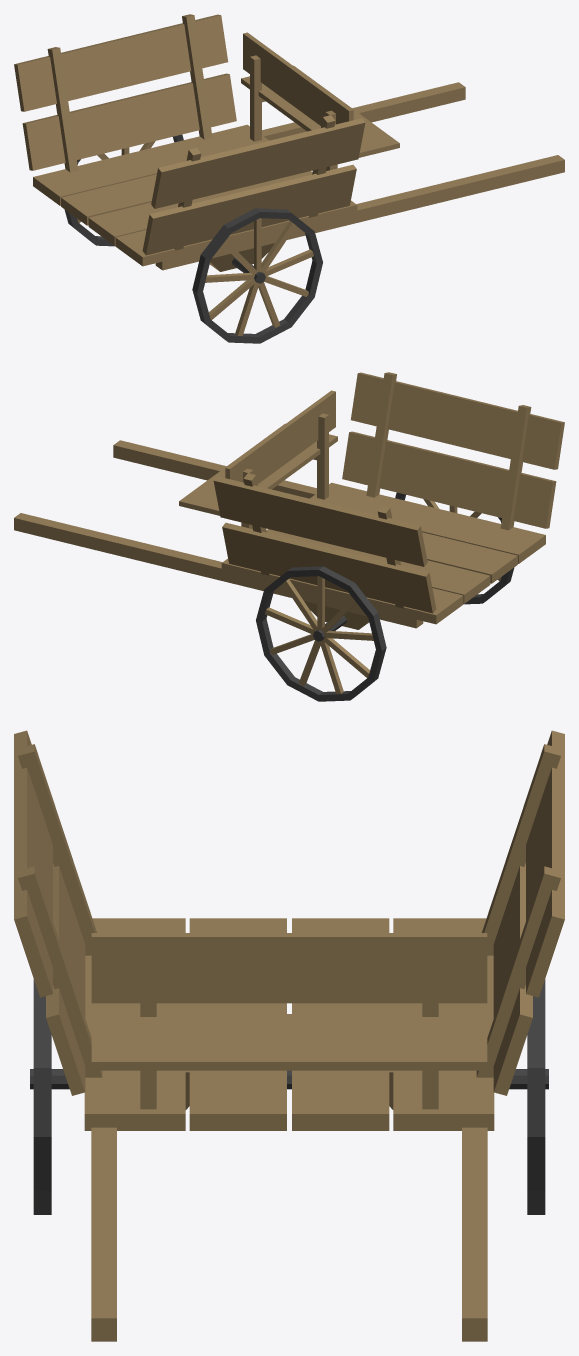
File: Small Cart destruction.fbx
3 views of the same model, one above another, from view 1: azimuth 30°, elevation 25°; view 2: azimuth 150°, elevation 25°; view 3: azimuth 270°, elevation 25° (orthographic). The views are drawn at different scales.
Parts seen in each view (by area): view 1: Cube.275, Cube.276, Cube.282, Cube.274, Cube.283, Cube.270, Cylinder.065, Cube.286, Cube.279, Cube.273, Cube.285, Cube.271 (+6 smaller); view 2: Cube.282, Cube.274, Cube.275, Cube.276, Cube.283, Cube.273, Cylinder.067, Cube.285, Cube.280, Cube.270, Cube.286, Cube.272 (+6 smaller); view 3: Cube.283, Cube.272, Cube.271, Cube.273, Cube.270, Cube.282, Cube.275, Cube.286, Cube.285, Cube.276, Cube.274, Cylinder.067 (+6 smaller).
Boxes of the visible parts, box(x1,y1,x2,y2) form: Cube.275: box(14, 14, 228, 111); Cube.276: box(22, 73, 236, 170); Cube.282: box(151, 118, 365, 208); Cube.274: box(142, 164, 356, 255); Cube.283: box(241, 32, 399, 170); Cube.270: box(33, 124, 268, 205); Cylinder.065: box(192, 208, 322, 343); Cube.286: box(357, 155, 564, 221); Cube.279: box(205, 218, 313, 335); Cube.273: box(115, 200, 357, 266); Cube.285: box(262, 82, 465, 140); Cube.271: box(61, 174, 156, 225); Cube.282: box(350, 372, 564, 469); Cube.274: box(342, 431, 556, 528); Cube.275: box(213, 476, 427, 566); Cube.276: box(222, 522, 436, 613); Cube.283: box(179, 390, 337, 528); Cube.273: box(310, 482, 545, 563); Cylinder.067: box(256, 566, 386, 701); Cube.285: box(14, 513, 221, 579); Cube.280: box(265, 576, 373, 693); Cube.270: box(221, 558, 463, 624); Cube.286: box(113, 440, 316, 498); Cube.272: box(422, 532, 517, 583); Cube.283: box(91, 933, 487, 1109); Cube.272: box(189, 918, 286, 1130); Cube.271: box(292, 918, 389, 1130); Cube.273: box(84, 918, 185, 1130); Cube.270: box(393, 918, 494, 1130); Cube.282: box(14, 730, 52, 997); Cube.275: box(526, 730, 564, 997); Cube.286: box(91, 1135, 116, 1341); Cube.285: box(462, 1135, 487, 1341); Cube.276: box(493, 863, 532, 1095); Cube.274: box(46, 863, 85, 1095); Cylinder.067: box(527, 979, 545, 1214).
Size of the model in its own units: 3.43 by 1.63 by 2.07.
